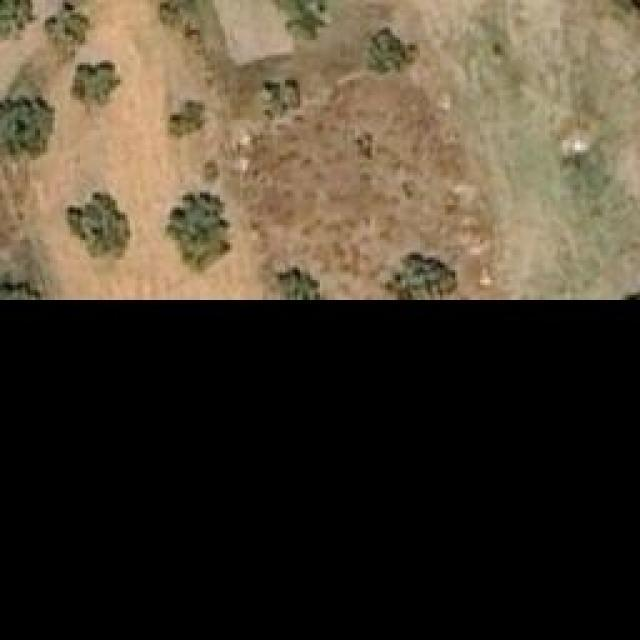Tree: (168, 193, 234, 268), (65, 193, 130, 258), (0, 97, 52, 157), (405, 253, 458, 298), (45, 0, 88, 55), (365, 30, 418, 73), (70, 63, 120, 108), (258, 75, 303, 118), (277, 0, 332, 32), (273, 268, 328, 298), (0, 0, 38, 40), (170, 100, 205, 138)
